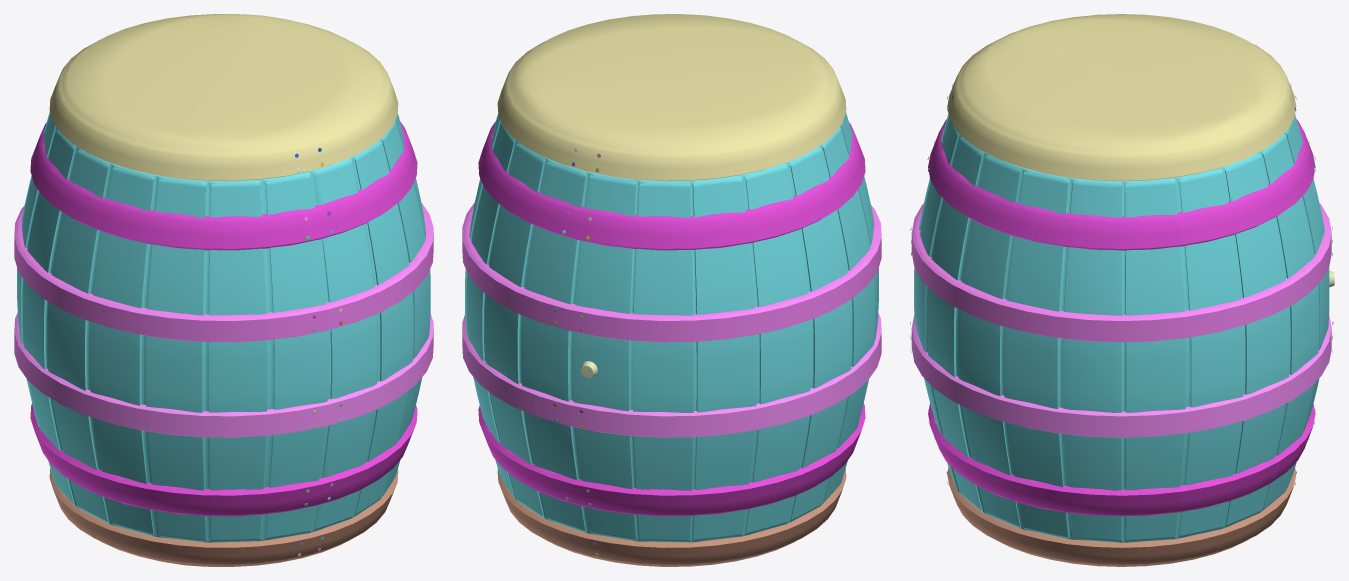
3 views of the same model, side by side, from view 1: azimuth 30°, elevation 25°; view 2: azimuth 150°, elevation 25°; view 3: azimuth 270°, elevation 25° (orthographic).
Parts seen in each view (by area): view 1: defaultMaterial.057, defaultMaterial.052, split_parent_51, defaultMaterial.051, defaultMaterial.054, defaultMaterial.055; view 2: defaultMaterial.057, defaultMaterial.052, split_parent_51, defaultMaterial.051, defaultMaterial.054, defaultMaterial.055; view 3: defaultMaterial.057, defaultMaterial.052, split_parent_51, defaultMaterial.051, defaultMaterial.054, defaultMaterial.055.
Boxes of the visible parts, x1=… form: defaultMaterial.057: x1=17, y1=112, x2=430, y2=542; defaultMaterial.052: x1=49, y1=14, x2=398, y2=181; split_parent_51: x1=30, y1=122, x2=417, y2=516; defaultMaterial.051: x1=14, y1=203, x2=433, y2=342; defaultMaterial.054: x1=14, y1=313, x2=433, y2=437; defaultMaterial.055: x1=49, y1=468, x2=398, y2=566; defaultMaterial.057: x1=465, y1=112, x2=878, y2=542; defaultMaterial.052: x1=497, y1=14, x2=846, y2=181; split_parent_51: x1=478, y1=121, x2=865, y2=516; defaultMaterial.051: x1=462, y1=202, x2=881, y2=342; defaultMaterial.054: x1=462, y1=313, x2=881, y2=437; defaultMaterial.055: x1=497, y1=468, x2=846, y2=566; defaultMaterial.057: x1=914, y1=114, x2=1329, y2=542; defaultMaterial.052: x1=947, y1=14, x2=1296, y2=181; split_parent_51: x1=928, y1=119, x2=1315, y2=516; defaultMaterial.051: x1=911, y1=203, x2=1331, y2=342; defaultMaterial.054: x1=911, y1=314, x2=1331, y2=437; defaultMaterial.055: x1=947, y1=467, x2=1296, y2=566.
Bounding box in the file's own units: 0.8895 × 1 × 0.8993.
